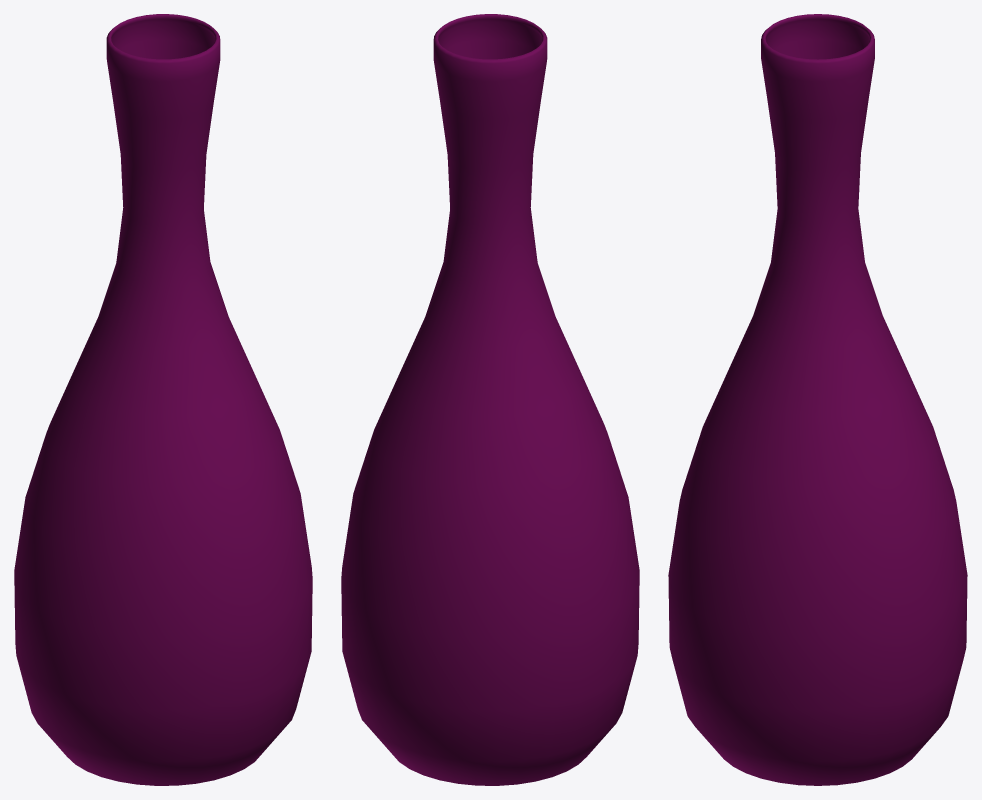
Rendered from vase_pink.fbx.
3 renders of one model, left to right at view 1: azimuth 30°, elevation 25°; view 2: azimuth 150°, elevation 25°; view 3: azimuth 270°, elevation 25°, orthographic.
Visible parts, largest first — view 1: Plane; view 2: Plane; view 3: Plane.
Part boxes in pixels (<box>): Plane: <box>14,14,312,785</box>; Plane: <box>341,14,639,785</box>; Plane: <box>668,14,967,785</box>.
Bounding box in the file's own units: 15 × 40 × 15.
